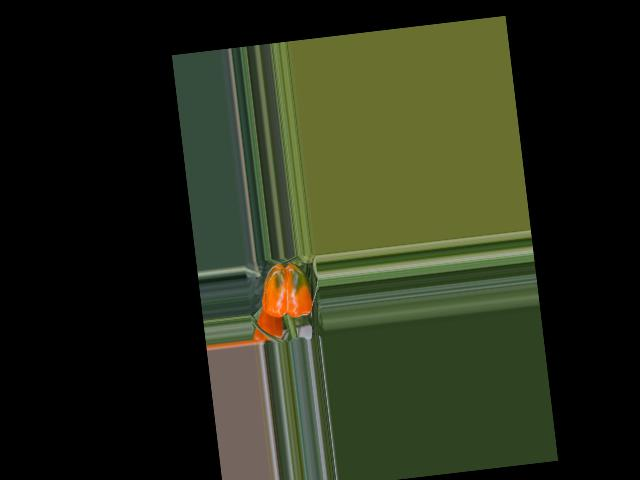bell_pepper: (254, 255, 321, 327)
